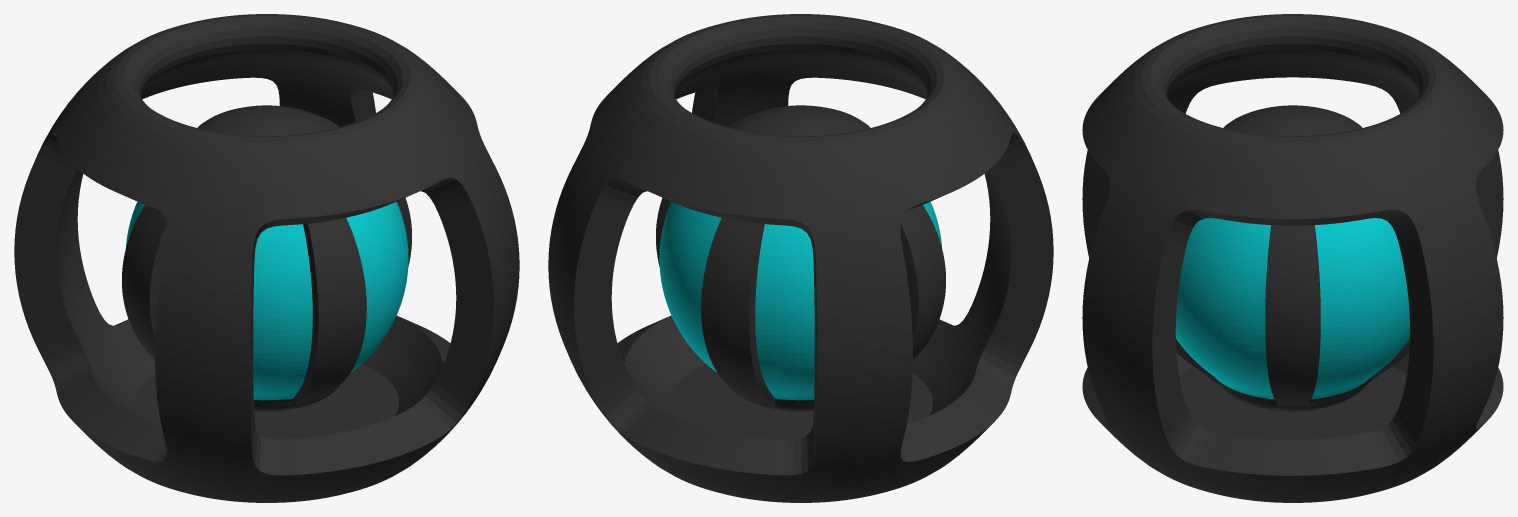
The model's file is Drone.obj.
The picture shows the model from 3 angles, left to right: view 1: azimuth 30°, elevation 25°; view 2: azimuth 150°, elevation 25°; view 3: azimuth 270°, elevation 25°; orthographic projection.
Parts seen in each view (by area): view 1: Sphere, Sphere.001_Sphere.002, Cone; view 2: Sphere, Sphere.001_Sphere.002, Cone; view 3: Sphere, Sphere.001_Sphere.002, Cone.
Part boxes in pixels (x1=…): Sphere: x1=14, y1=14, x2=519, y2=502; Sphere.001_Sphere.002: x1=122, y1=105, x2=411, y2=411; Cone: x1=135, y1=364, x2=398, y2=439; Sphere: x1=548, y1=14, x2=1053, y2=502; Sphere.001_Sphere.002: x1=656, y1=105, x2=945, y2=411; Cone: x1=669, y1=364, x2=932, y2=439; Sphere: x1=1082, y1=14, x2=1503, y2=502; Sphere.001_Sphere.002: x1=1175, y1=105, x2=1410, y2=411; Cone: x1=1179, y1=366, x2=1406, y2=439.
Size of the model in its own units: 0.3737 by 0.4117 by 0.3737.
